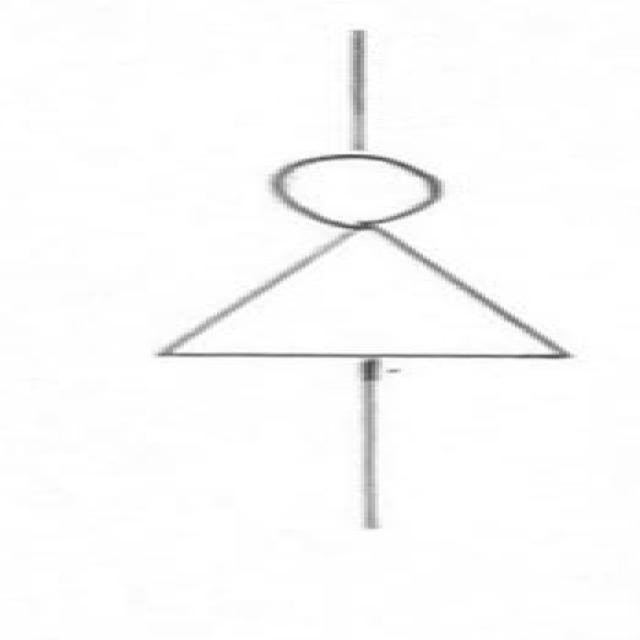NOT: (124, 139, 636, 407)
